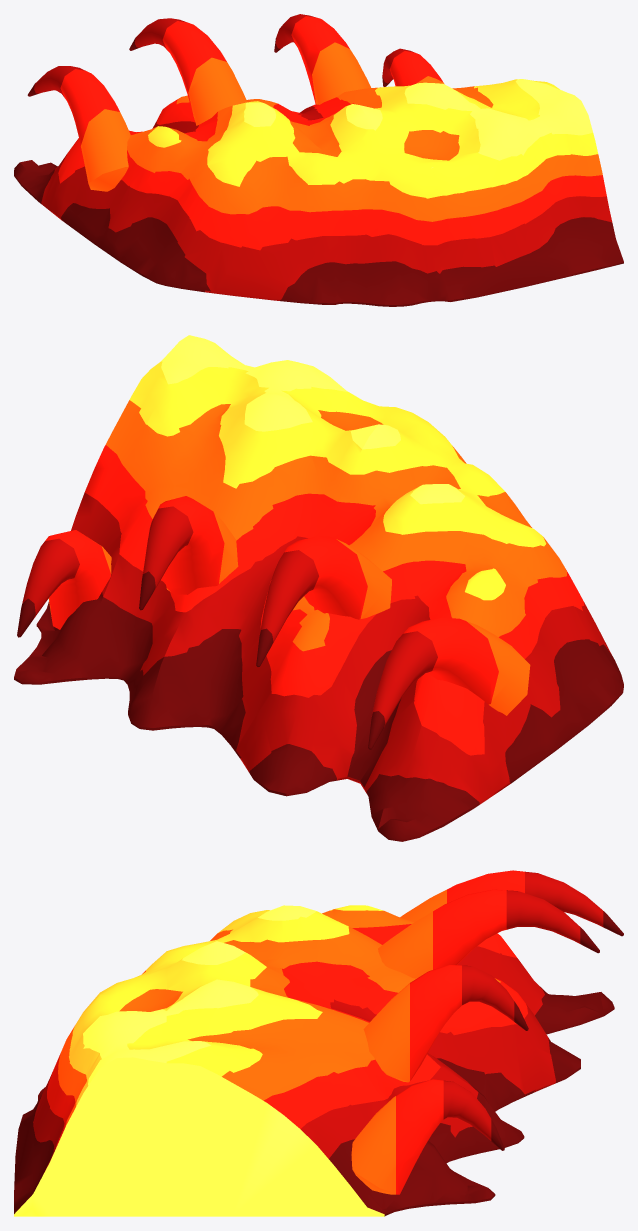
The model's file is fire_bowl_left.glb.
The picture shows the model from 3 angles, top to bottom: view 1: azimuth 30°, elevation 25°; view 2: azimuth 150°, elevation 25°; view 3: azimuth 270°, elevation 25°; orthographic projection. The views are drawn at different scales.
Parts seen in each view (by area): view 1: bowl, tongue0, tongue1, tongue2, tongue3; view 2: bowl, tongue0, tongue1, tongue2, tongue3; view 3: bowl, tongue1, tongue2, tongue3, tongue0.
Part boxes in pixels (bbox=[...]): bowl: bbox=[14, 79, 623, 306]; tongue0: bbox=[27, 66, 130, 191]; tongue1: bbox=[129, 18, 247, 125]; tongue2: bbox=[274, 14, 370, 104]; tongue3: bbox=[382, 48, 444, 86]; bowl: bbox=[14, 335, 623, 841]; tongue0: bbox=[368, 617, 530, 749]; tongue1: bbox=[256, 536, 391, 666]; tongue2: bbox=[139, 496, 238, 610]; tongue3: bbox=[17, 530, 111, 637]; bowl: bbox=[14, 905, 614, 1216]; tongue1: bbox=[378, 889, 599, 978]; tongue2: bbox=[363, 965, 528, 1082]; tongue3: bbox=[351, 1079, 504, 1194]; tongue0: bbox=[400, 870, 623, 936].
Bounding box in the file's own units: 22 × 8.53 × 25.55.
